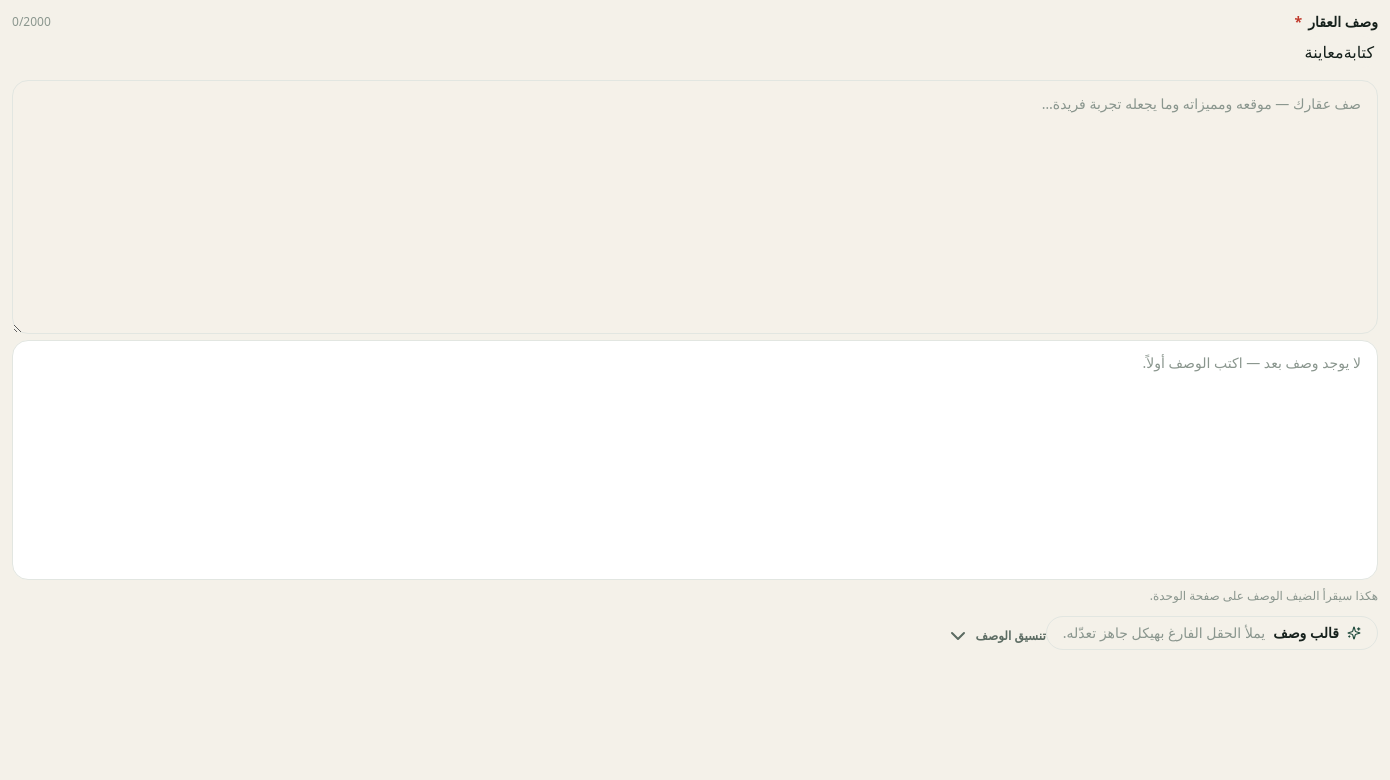
Test: DescriptionEditor — the affordances › offers the template only while the field is empty
Expected: the button "قالب وصف" is shown, [1046,616,1378,650]
Type "نص كتبه الشريك" into the text box with placeholder "صف عقارك — موقعه ومميزاته وما يجعله تجربة فريدة…". click: (695, 207)
box: [12,80,1378,334]
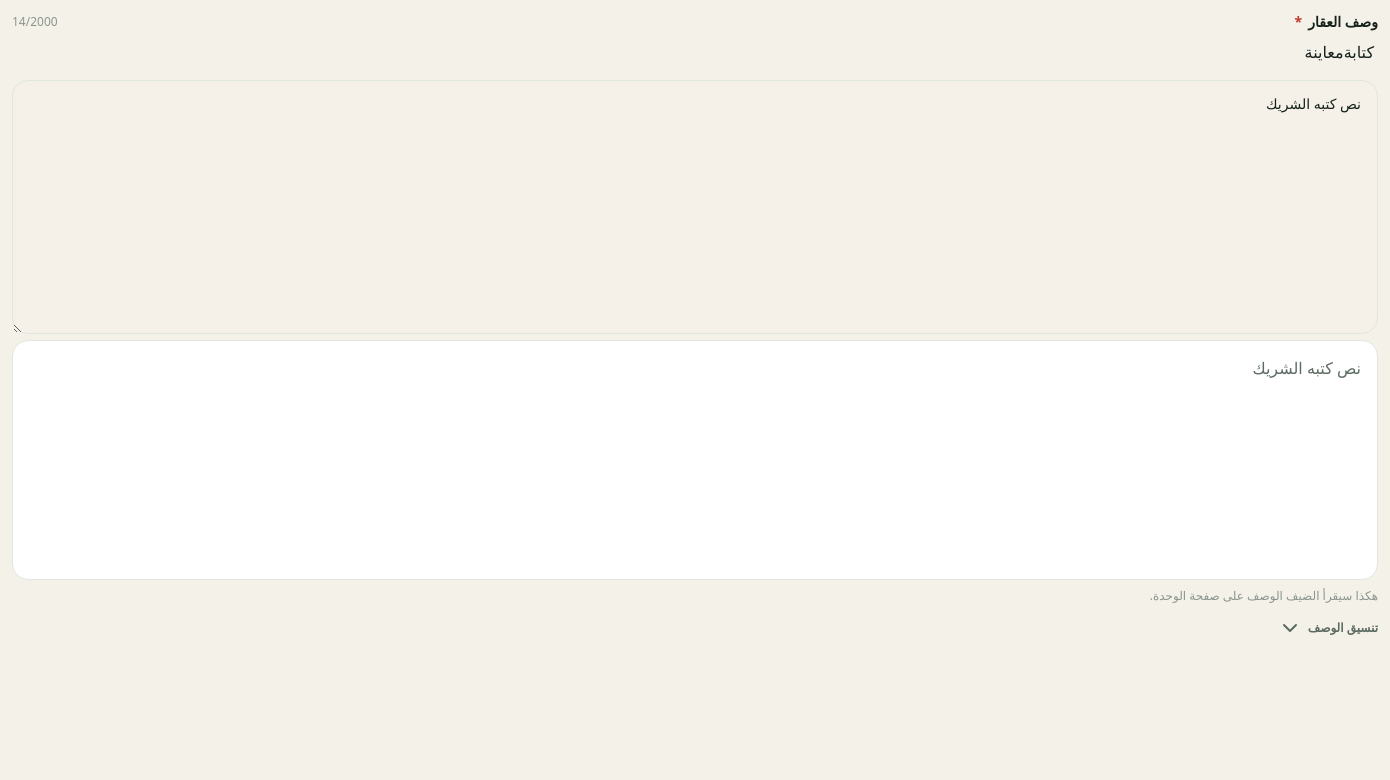
Expected: the button "قالب وصف" is gone
